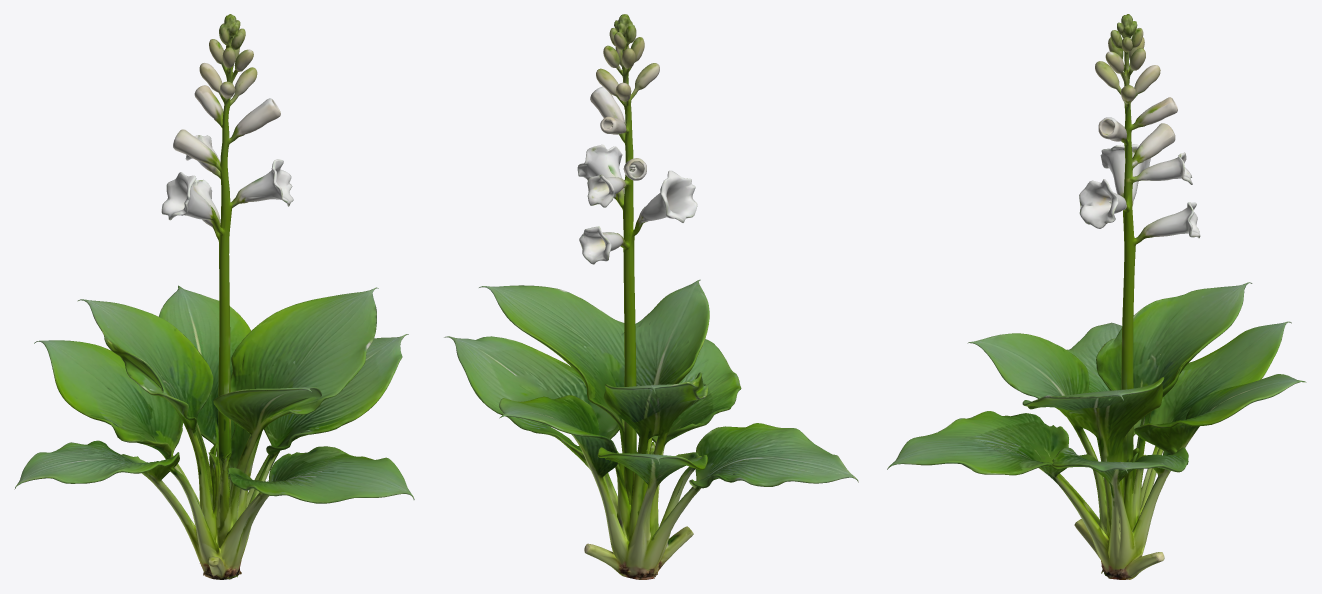
The model's file is yuzan.glb.
3 renders of one model, left to right at view 1: azimuth 30°, elevation 25°; view 2: azimuth 150°, elevation 25°; view 3: azimuth 270°, elevation 25°, orthographic.
Visible parts, largest first — view 1: node_0; view 2: node_0; view 3: node_0.
Part boxes in pixels (box(x1,y1,x2,y2)): node_0: box(14, 14, 414, 579); node_0: box(444, 14, 858, 579); node_0: box(887, 14, 1306, 579).
Size of the model in its own units: 0.9068 by 1.19 by 0.8047.
1 material, 1 textured.
